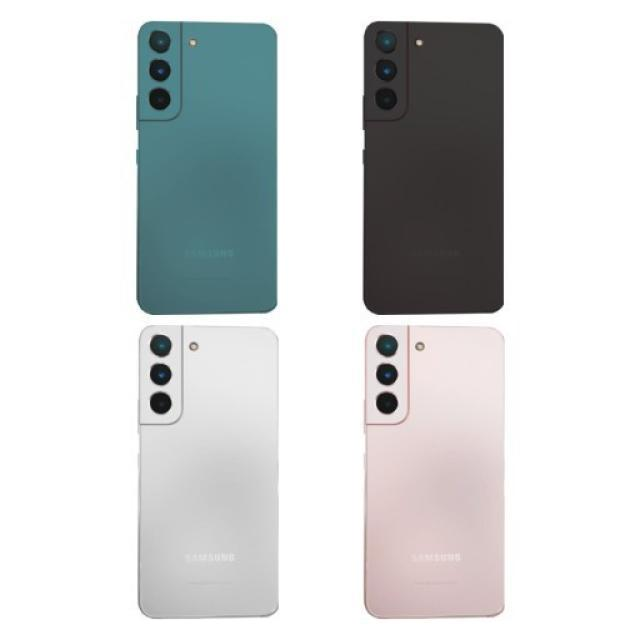phone: (362, 19, 506, 316), (136, 324, 280, 620), (363, 322, 505, 618), (136, 20, 278, 316)
